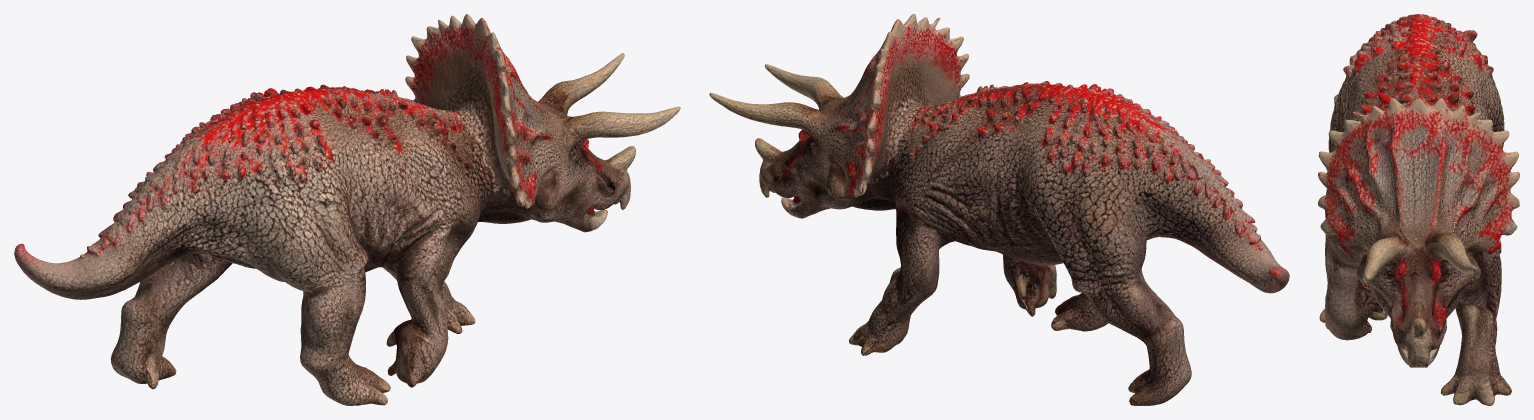
Rendered from triceratops.fbx.
3 renders of one model, left to right at view 1: azimuth 30°, elevation 25°; view 2: azimuth 150°, elevation 25°; view 3: azimuth 270°, elevation 25°, orthographic. The views are drawn at different scales.
Visible parts, largest first — view 1: world; view 2: world; view 3: world.
Part boxes in pixels (bbox=[...]): world: bbox=[14, 14, 680, 405]; world: bbox=[709, 14, 1289, 405]; world: bbox=[1318, 14, 1519, 405].
Size of the model in its own units: 199 by 101 by 60.36.
1 material, 1 textured.
